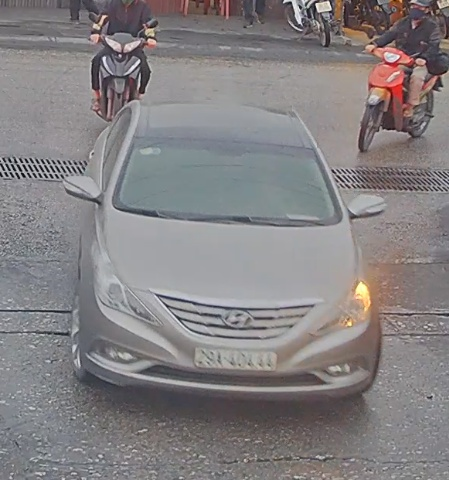vehicle plate: (189, 344, 286, 373)
